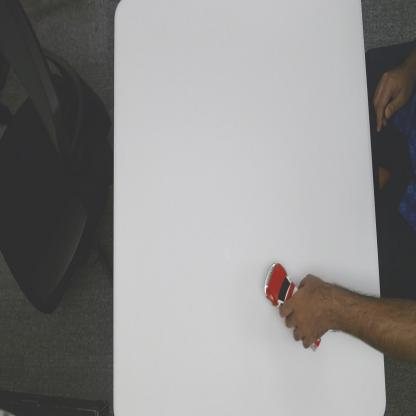Arm: (328, 271, 416, 367)
Firetruck: (262, 258, 322, 352)
Hand: (278, 271, 328, 347)
